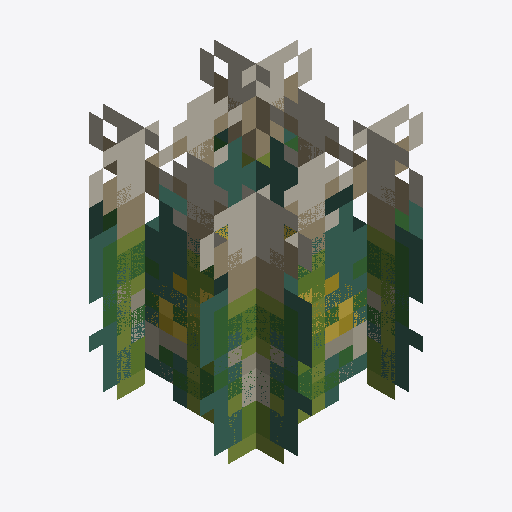
Isometric view (azimuth 45°, elevation 35.3°) of a Minecraft model made of 4 cuboids, textured from the same repository.
Visible parts, largest first — element 1, element 4, element 2, element 3.
Boxes of the visible parts, x1,y1,x2,y2 form: element 1: [89, 104, 311, 463]; element 4: [200, 104, 422, 463]; element 2: [200, 40, 422, 399]; element 3: [89, 40, 311, 399].
Size of the model in its own units: 16 by 16 by 16.